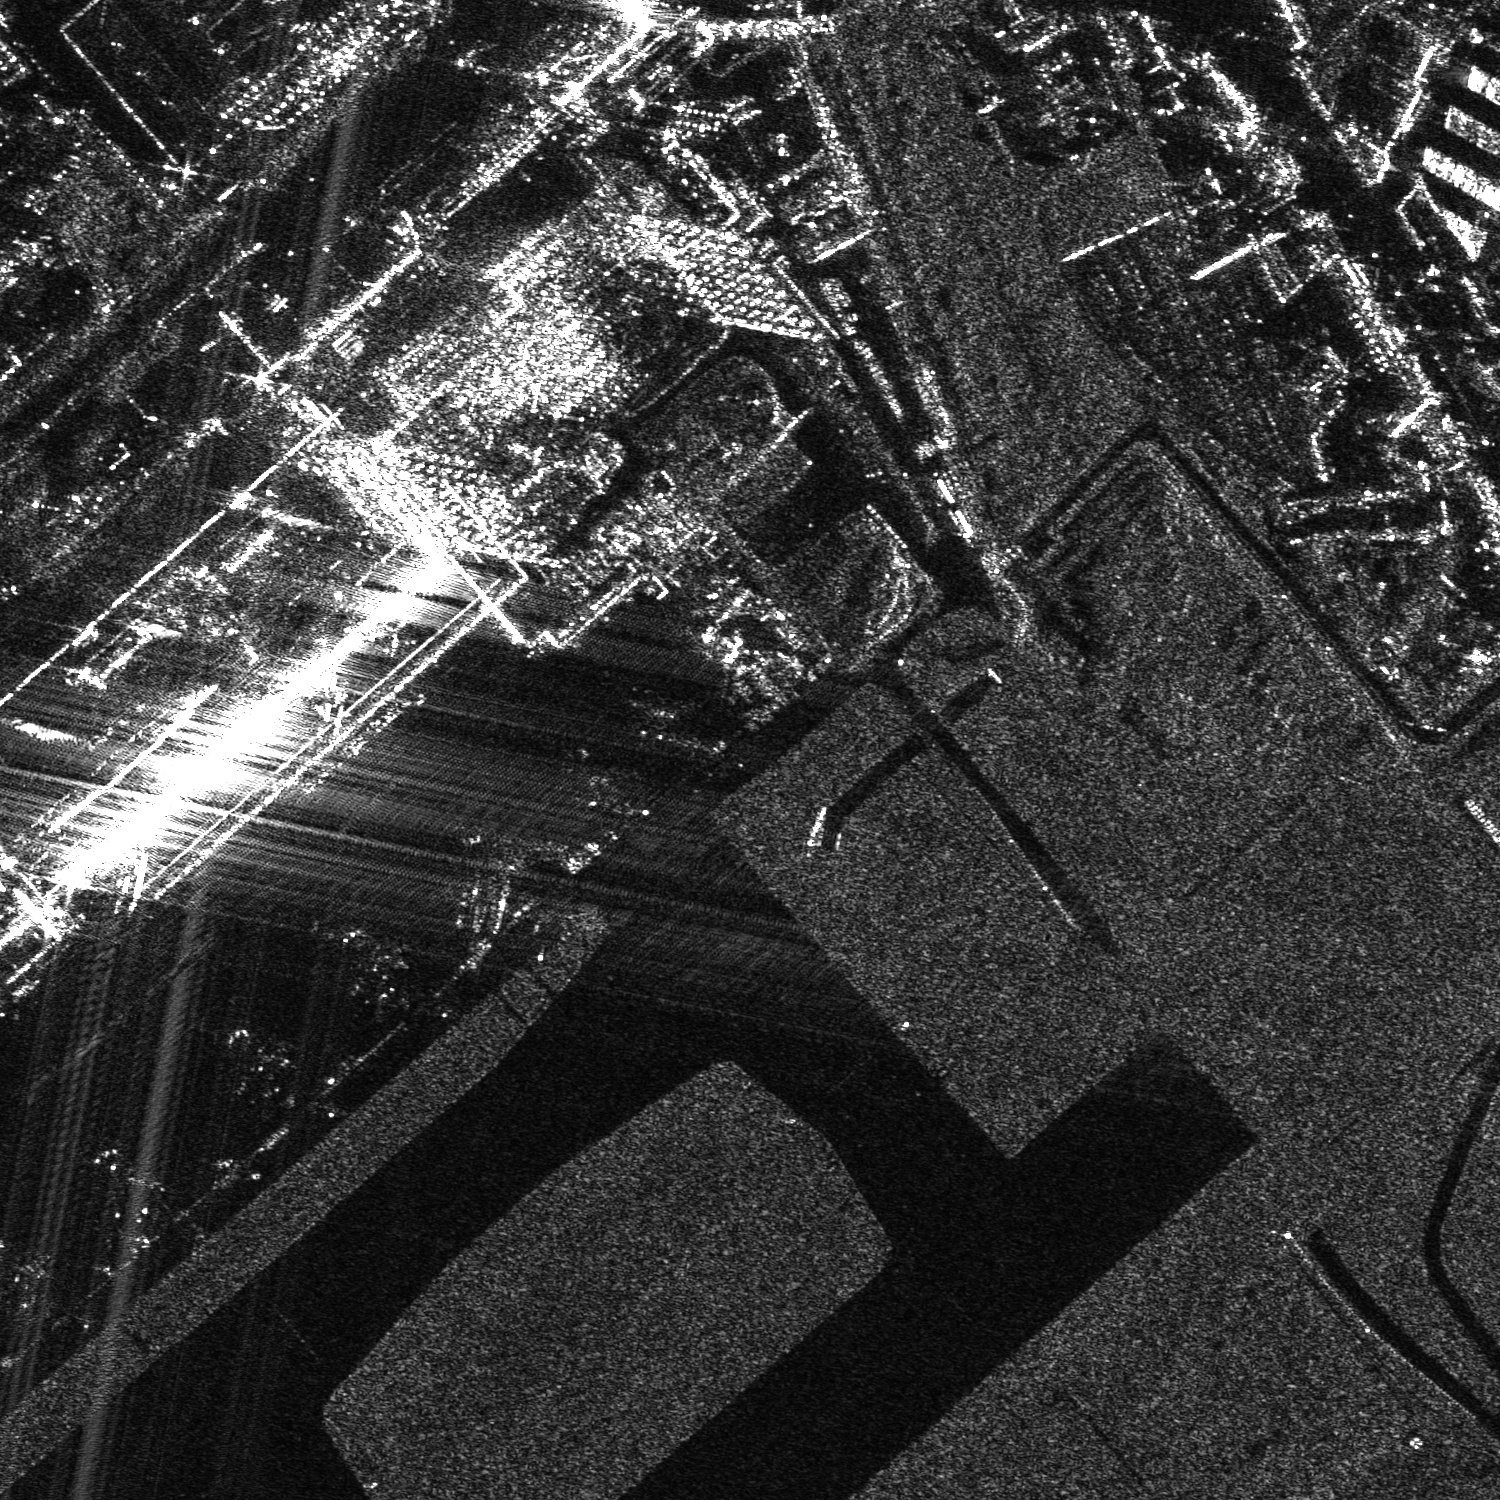Boeing737: (559, 740, 650, 815), (622, 690, 707, 751)
other: (84, 1129, 181, 1238), (213, 1012, 306, 1113), (332, 922, 424, 1015)
